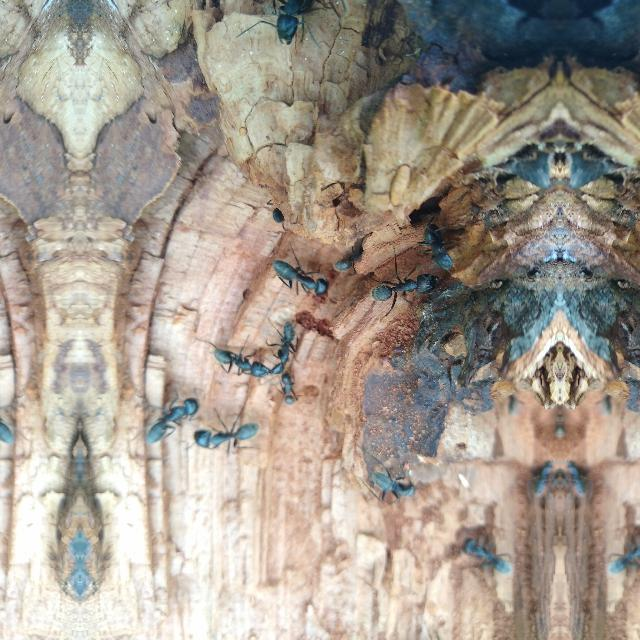Camponotus: (446, 526, 520, 598), (132, 377, 198, 447), (190, 408, 278, 460), (223, 0, 325, 42), (364, 268, 436, 310), (600, 526, 640, 598), (275, 250, 331, 296), (366, 449, 414, 501), (262, 312, 302, 373), (210, 343, 268, 383), (520, 454, 560, 510), (560, 454, 600, 510), (0, 377, 28, 447), (415, 210, 451, 260), (266, 366, 302, 406)
